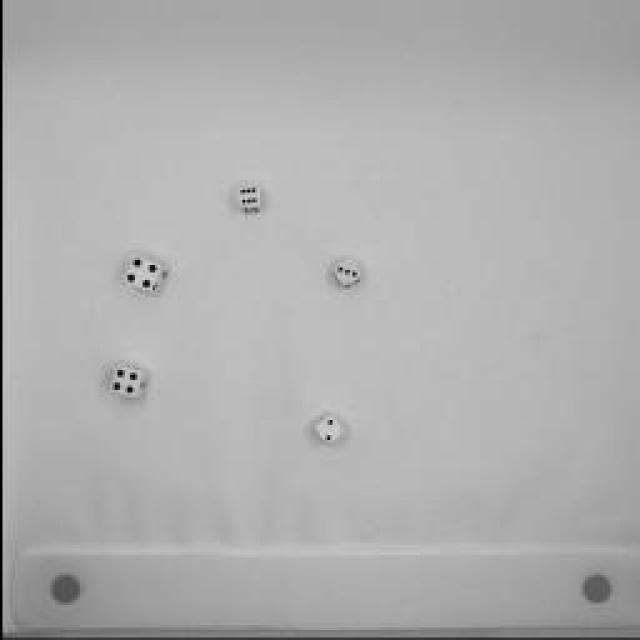dice_2: (305, 411, 345, 449)
dice_3: (325, 257, 365, 295)
dice_4: (118, 249, 168, 299), (102, 360, 148, 405)
dice_6: (230, 180, 265, 218)
